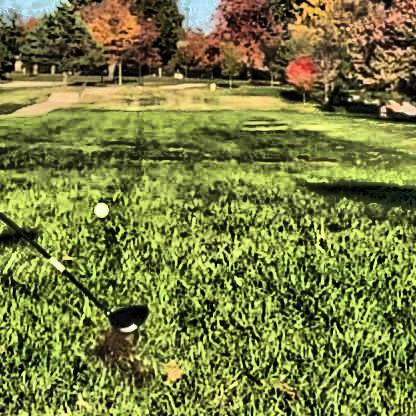golfball: (91, 199, 106, 214)
